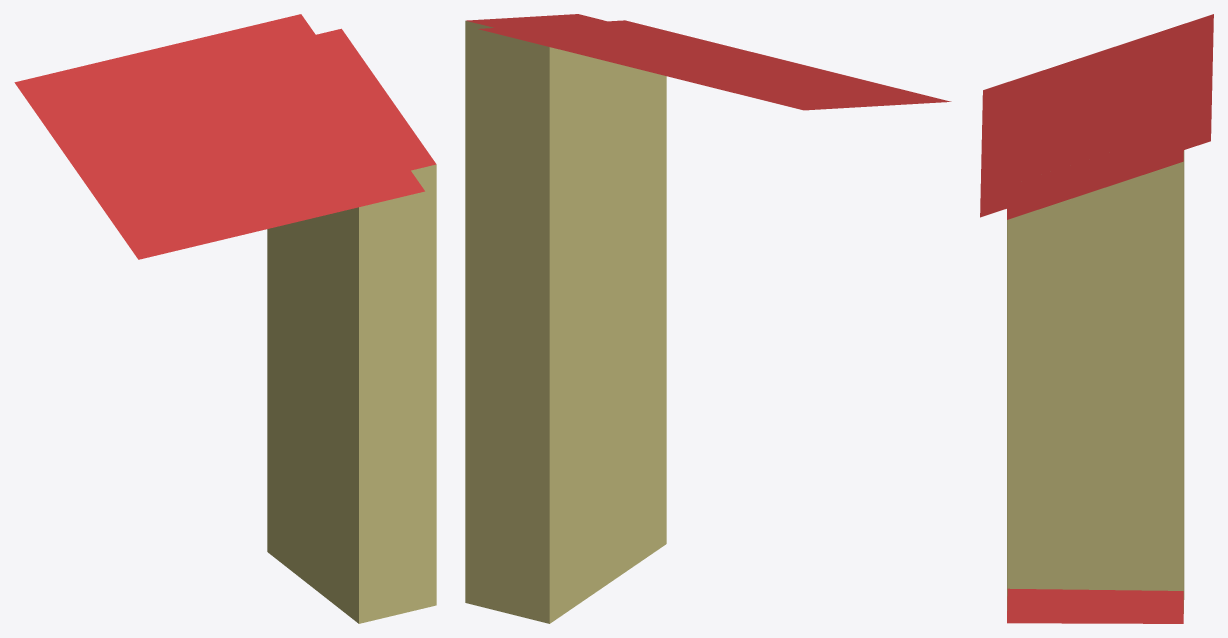
3 renders of one model, left to right at view 1: azimuth 30°, elevation 25°; view 2: azimuth 150°, elevation 25°; view 3: azimuth 270°, elevation 25°, orthographic. The views are drawn at different scales.
Size of the model in its own units: 6.09 by 4.31 by 9.58.
